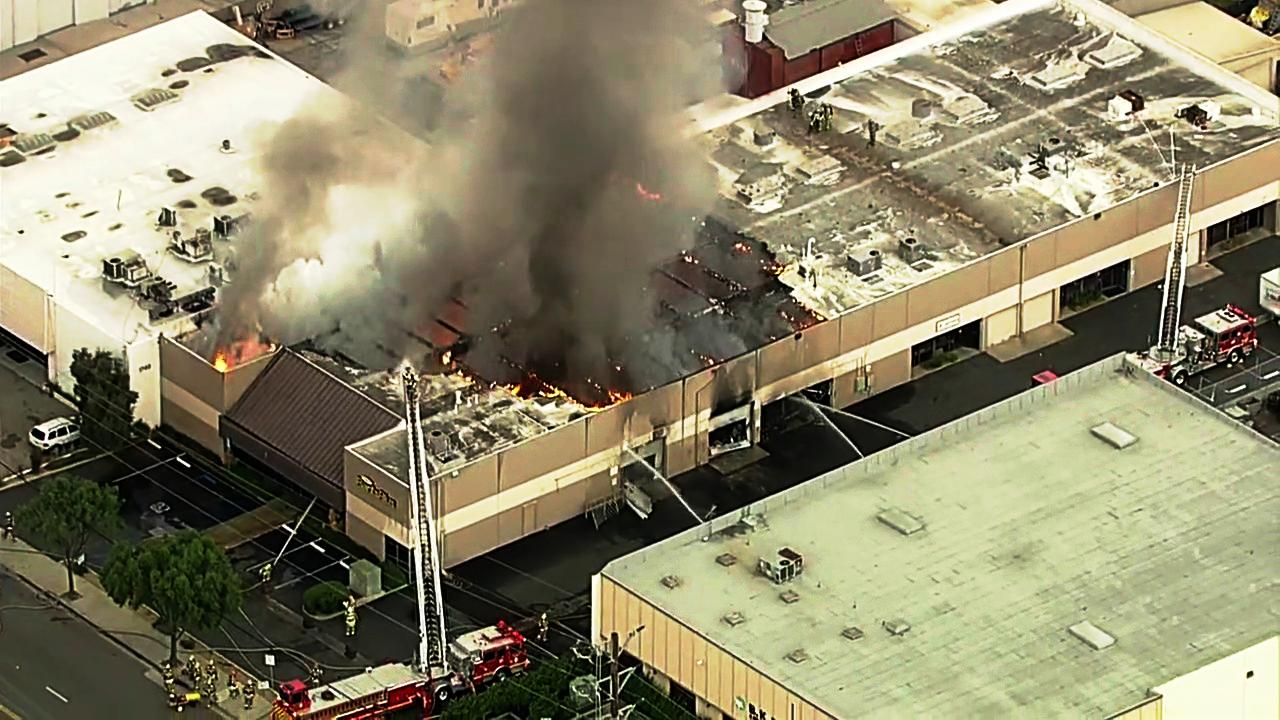smoke: (482, 0, 620, 268)
